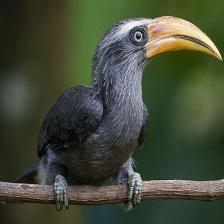bird: (17, 16, 221, 210)
